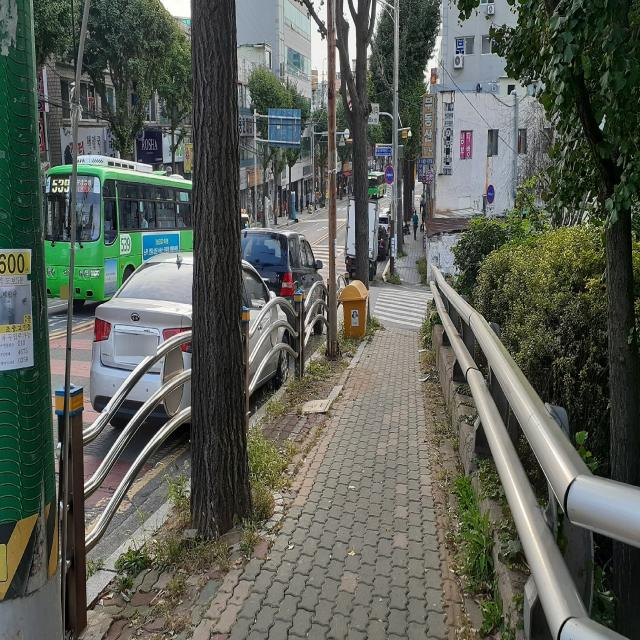횡단보도: (372, 288, 434, 328)
